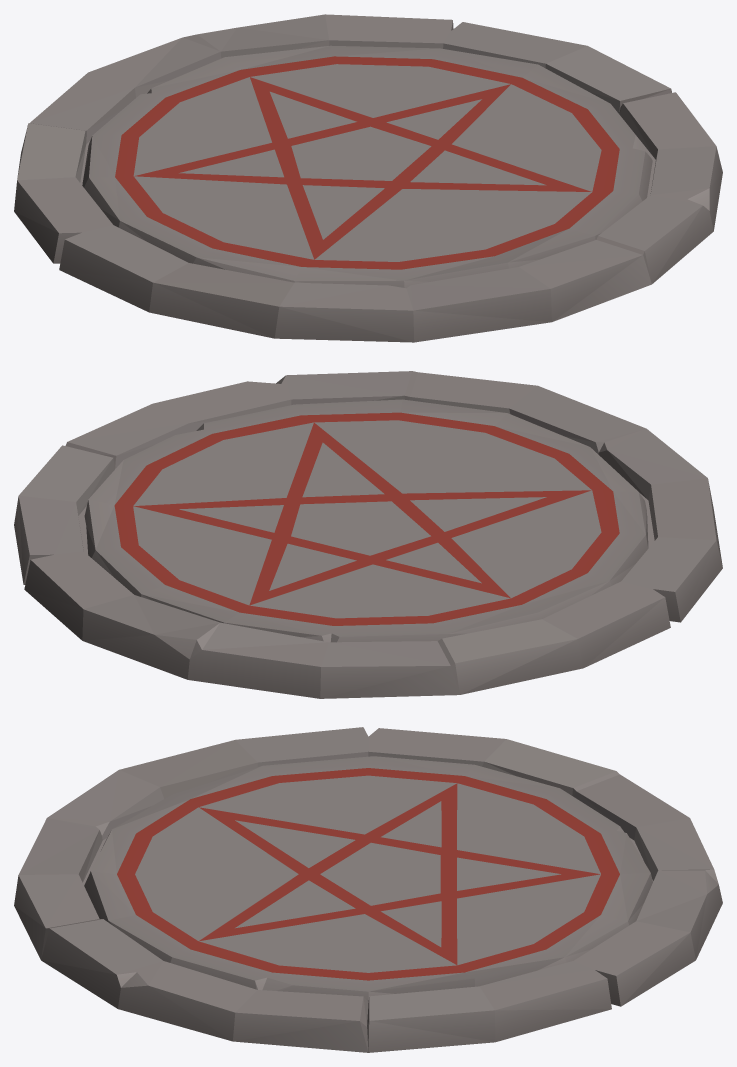
Rendered from HexCircle.fbx.
The picture shows the model from 3 angles, top to bottom: view 1: azimuth 30°, elevation 25°; view 2: azimuth 150°, elevation 25°; view 3: azimuth 270°, elevation 25°; orthographic projection.
Parts seen in each view (by area): view 1: HexCircle; view 2: HexCircle; view 3: HexCircle.
Part boxes in pixels (x1=…): HexCircle: x1=14, y1=14, x2=722, y2=342; HexCircle: x1=14, y1=371, x2=722, y2=698; HexCircle: x1=14, y1=727, x2=722, y2=1052.
Bounding box in the file's own units: 170 × 8.75 × 170.
